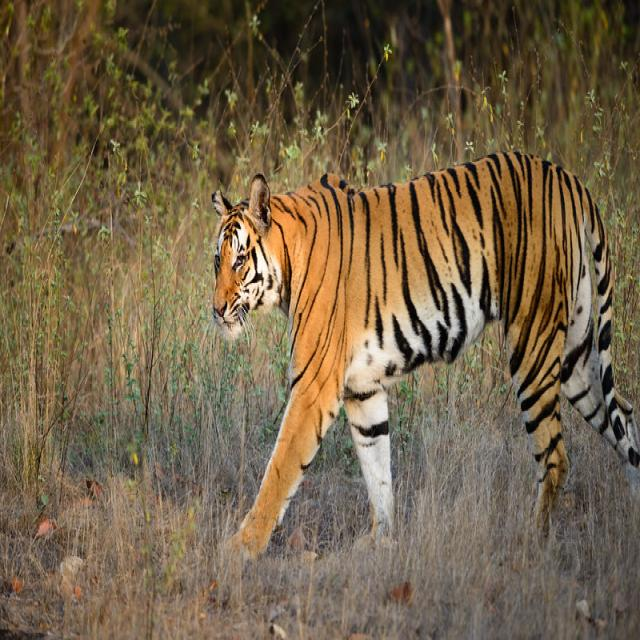Tiger: (208, 148, 639, 565)
